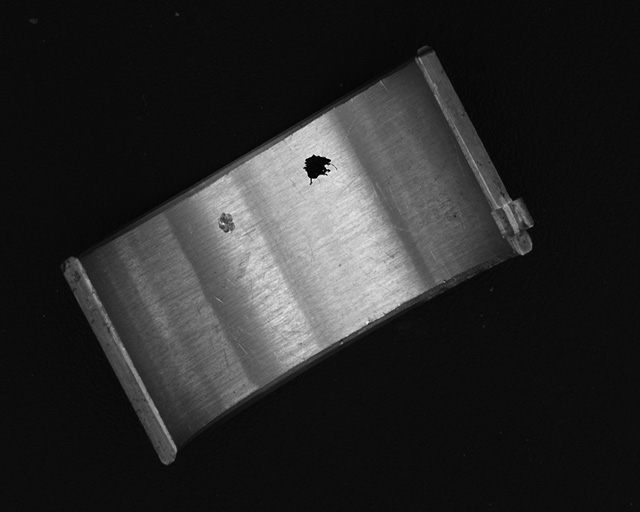blot: (303, 154, 340, 185)
bruise: (217, 211, 237, 235)
nick: (379, 78, 390, 93)
